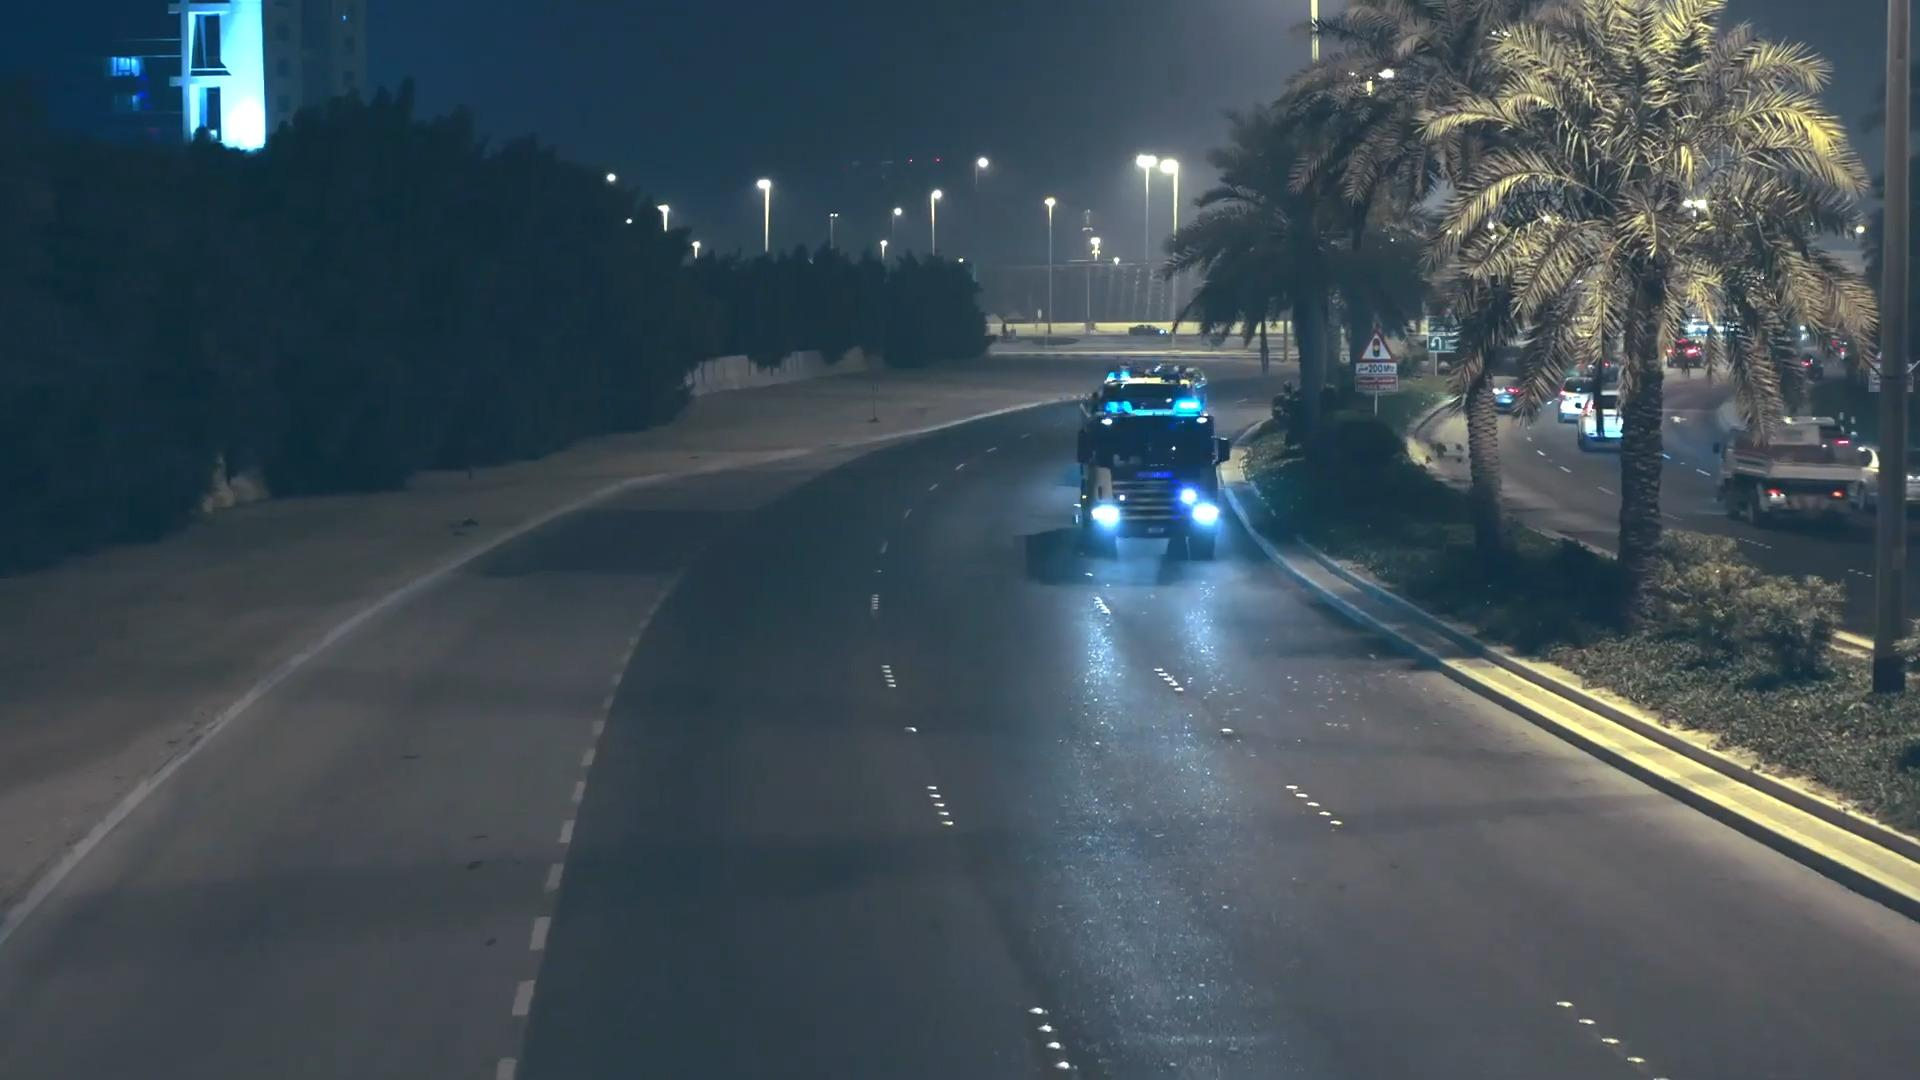firetruck_on: (1079, 402, 1232, 556), (1098, 363, 1204, 404)
